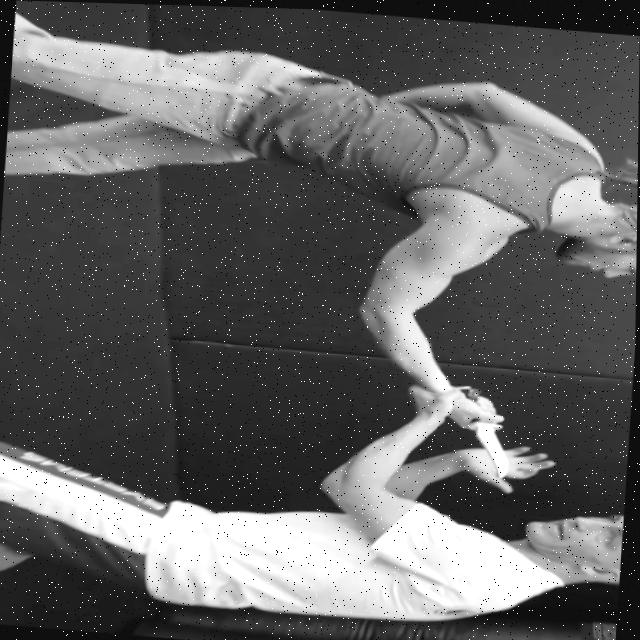knife: (466, 414, 515, 475)
